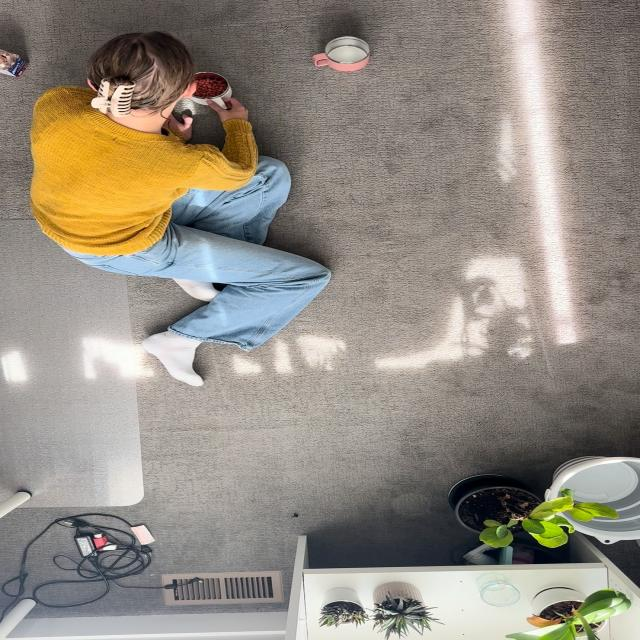IBC: (312, 36, 370, 72), (193, 72, 232, 106)
